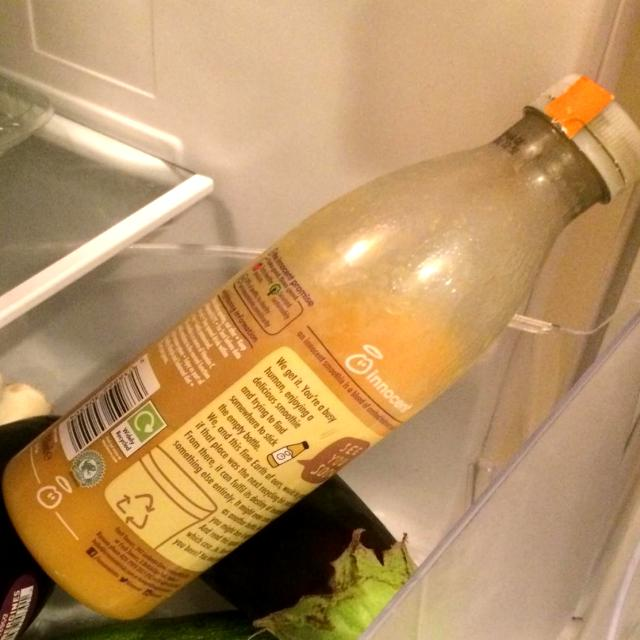Plastic: (0, 62, 640, 629)
